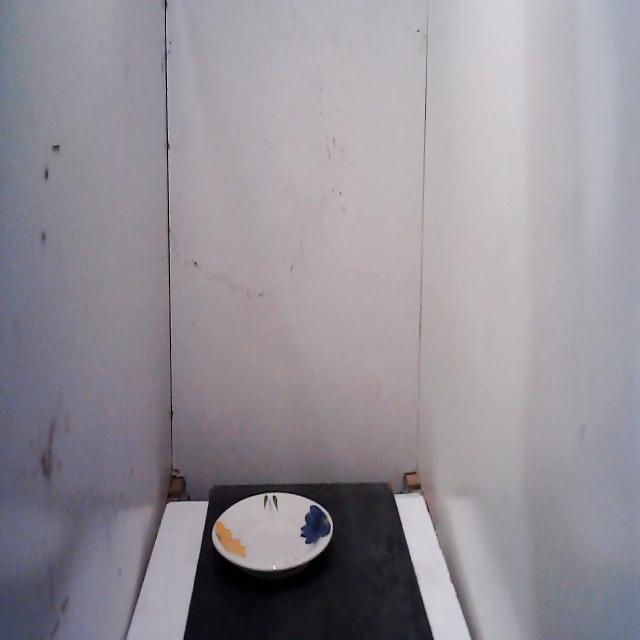vidro: (209, 486, 337, 580)
